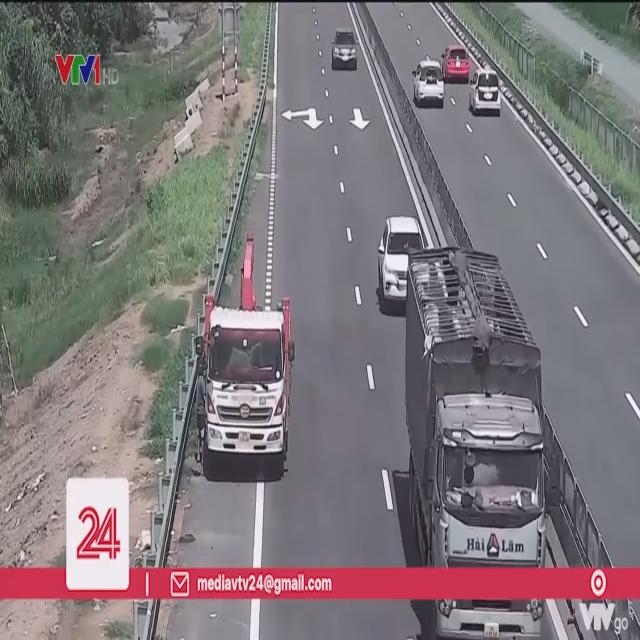car: (376, 220, 423, 316), (414, 59, 446, 107), (468, 70, 501, 116), (331, 28, 358, 71), (442, 47, 472, 83)
truck: (401, 244, 547, 564), (203, 291, 291, 473)
